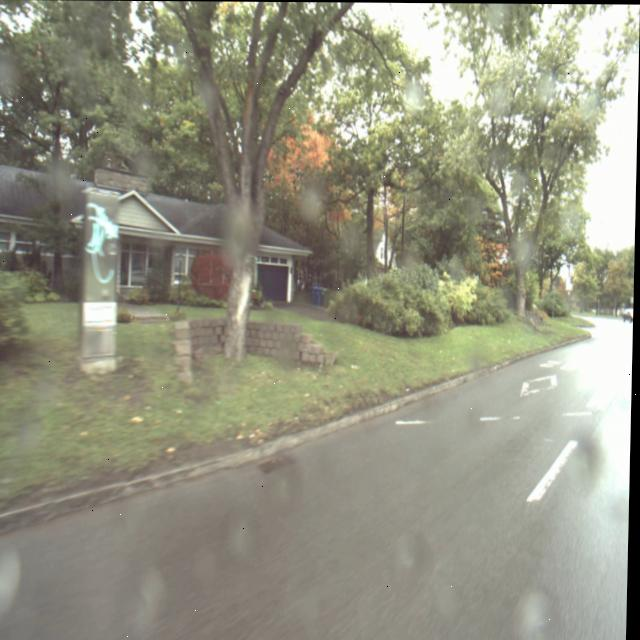car: (626, 304, 635, 324)
